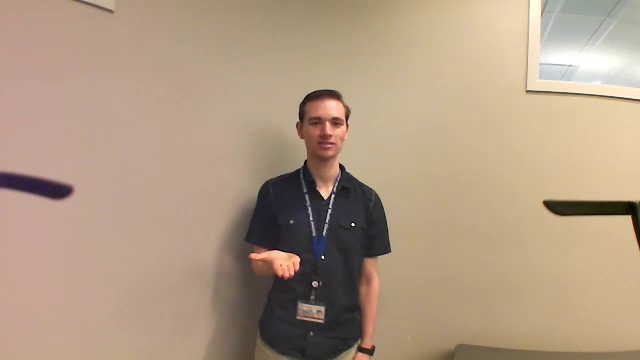land: (240, 240, 313, 286)
